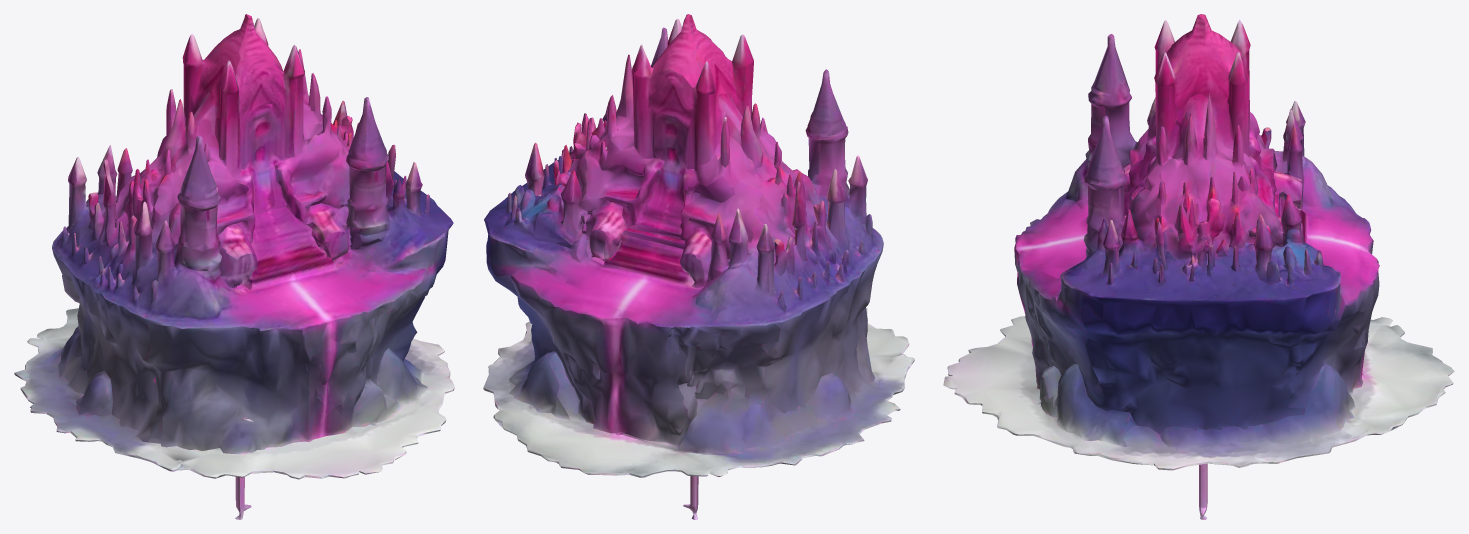
Rendered from outer-shoal-west-generated-2026-05-17T21-11-07-686Z.low.glb.
3 views of the same model, side by side, from view 1: azimuth 30°, elevation 25°; view 2: azimuth 150°, elevation 25°; view 3: azimuth 270°, elevation 25° (orthographic).
Visible parts, largest first — view 1: temp_mesh.ply; view 2: temp_mesh.ply; view 3: temp_mesh.ply.
Part boxes in pixels (box(x1,y1,x2,y2)): temp_mesh.ply: box(14, 14, 454, 519); temp_mesh.ply: box(483, 14, 914, 519); temp_mesh.ply: box(943, 14, 1454, 519).
Size of the model in its own units: 1.54 by 1.97 by 1.8.
1 material, 1 textured.
